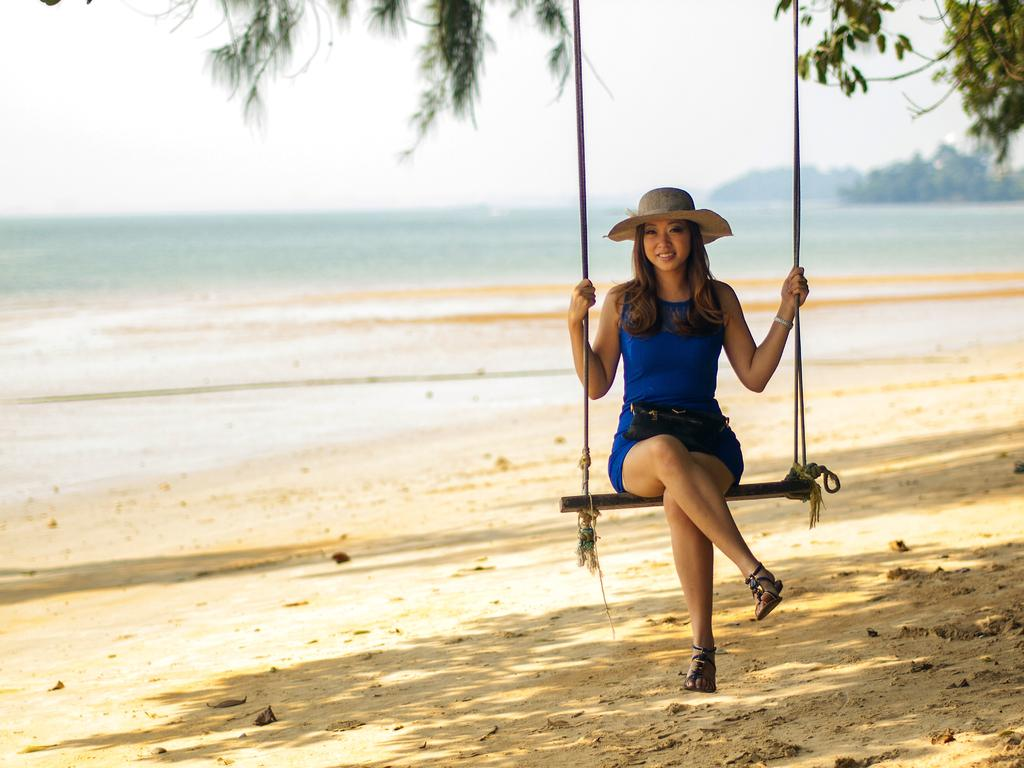Hat: (604, 186, 732, 248)
